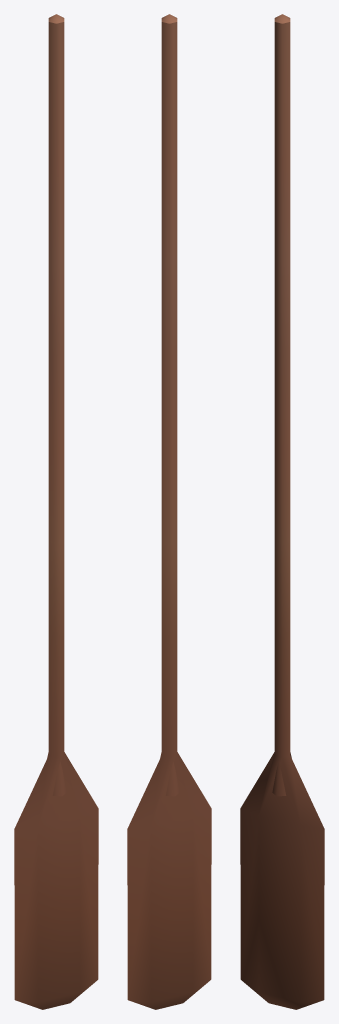
File: Boat-paddle.fbx
3 renders of one model, left to right at view 1: azimuth 30°, elevation 25°; view 2: azimuth 210°, elevation 25°; view 3: azimuth 330°, elevation 25°, orthographic.
Visible parts, largest first — view 1: paddle; view 2: paddle; view 3: paddle.
Part boxes in pixels (x1,y1,x2,y2): paddle: (14,14,98,1009); paddle: (127,14,211,1009); paddle: (240,14,324,1009).
Bounding box in the file's own units: 0.1689 × 1.9 × 0.0415.
